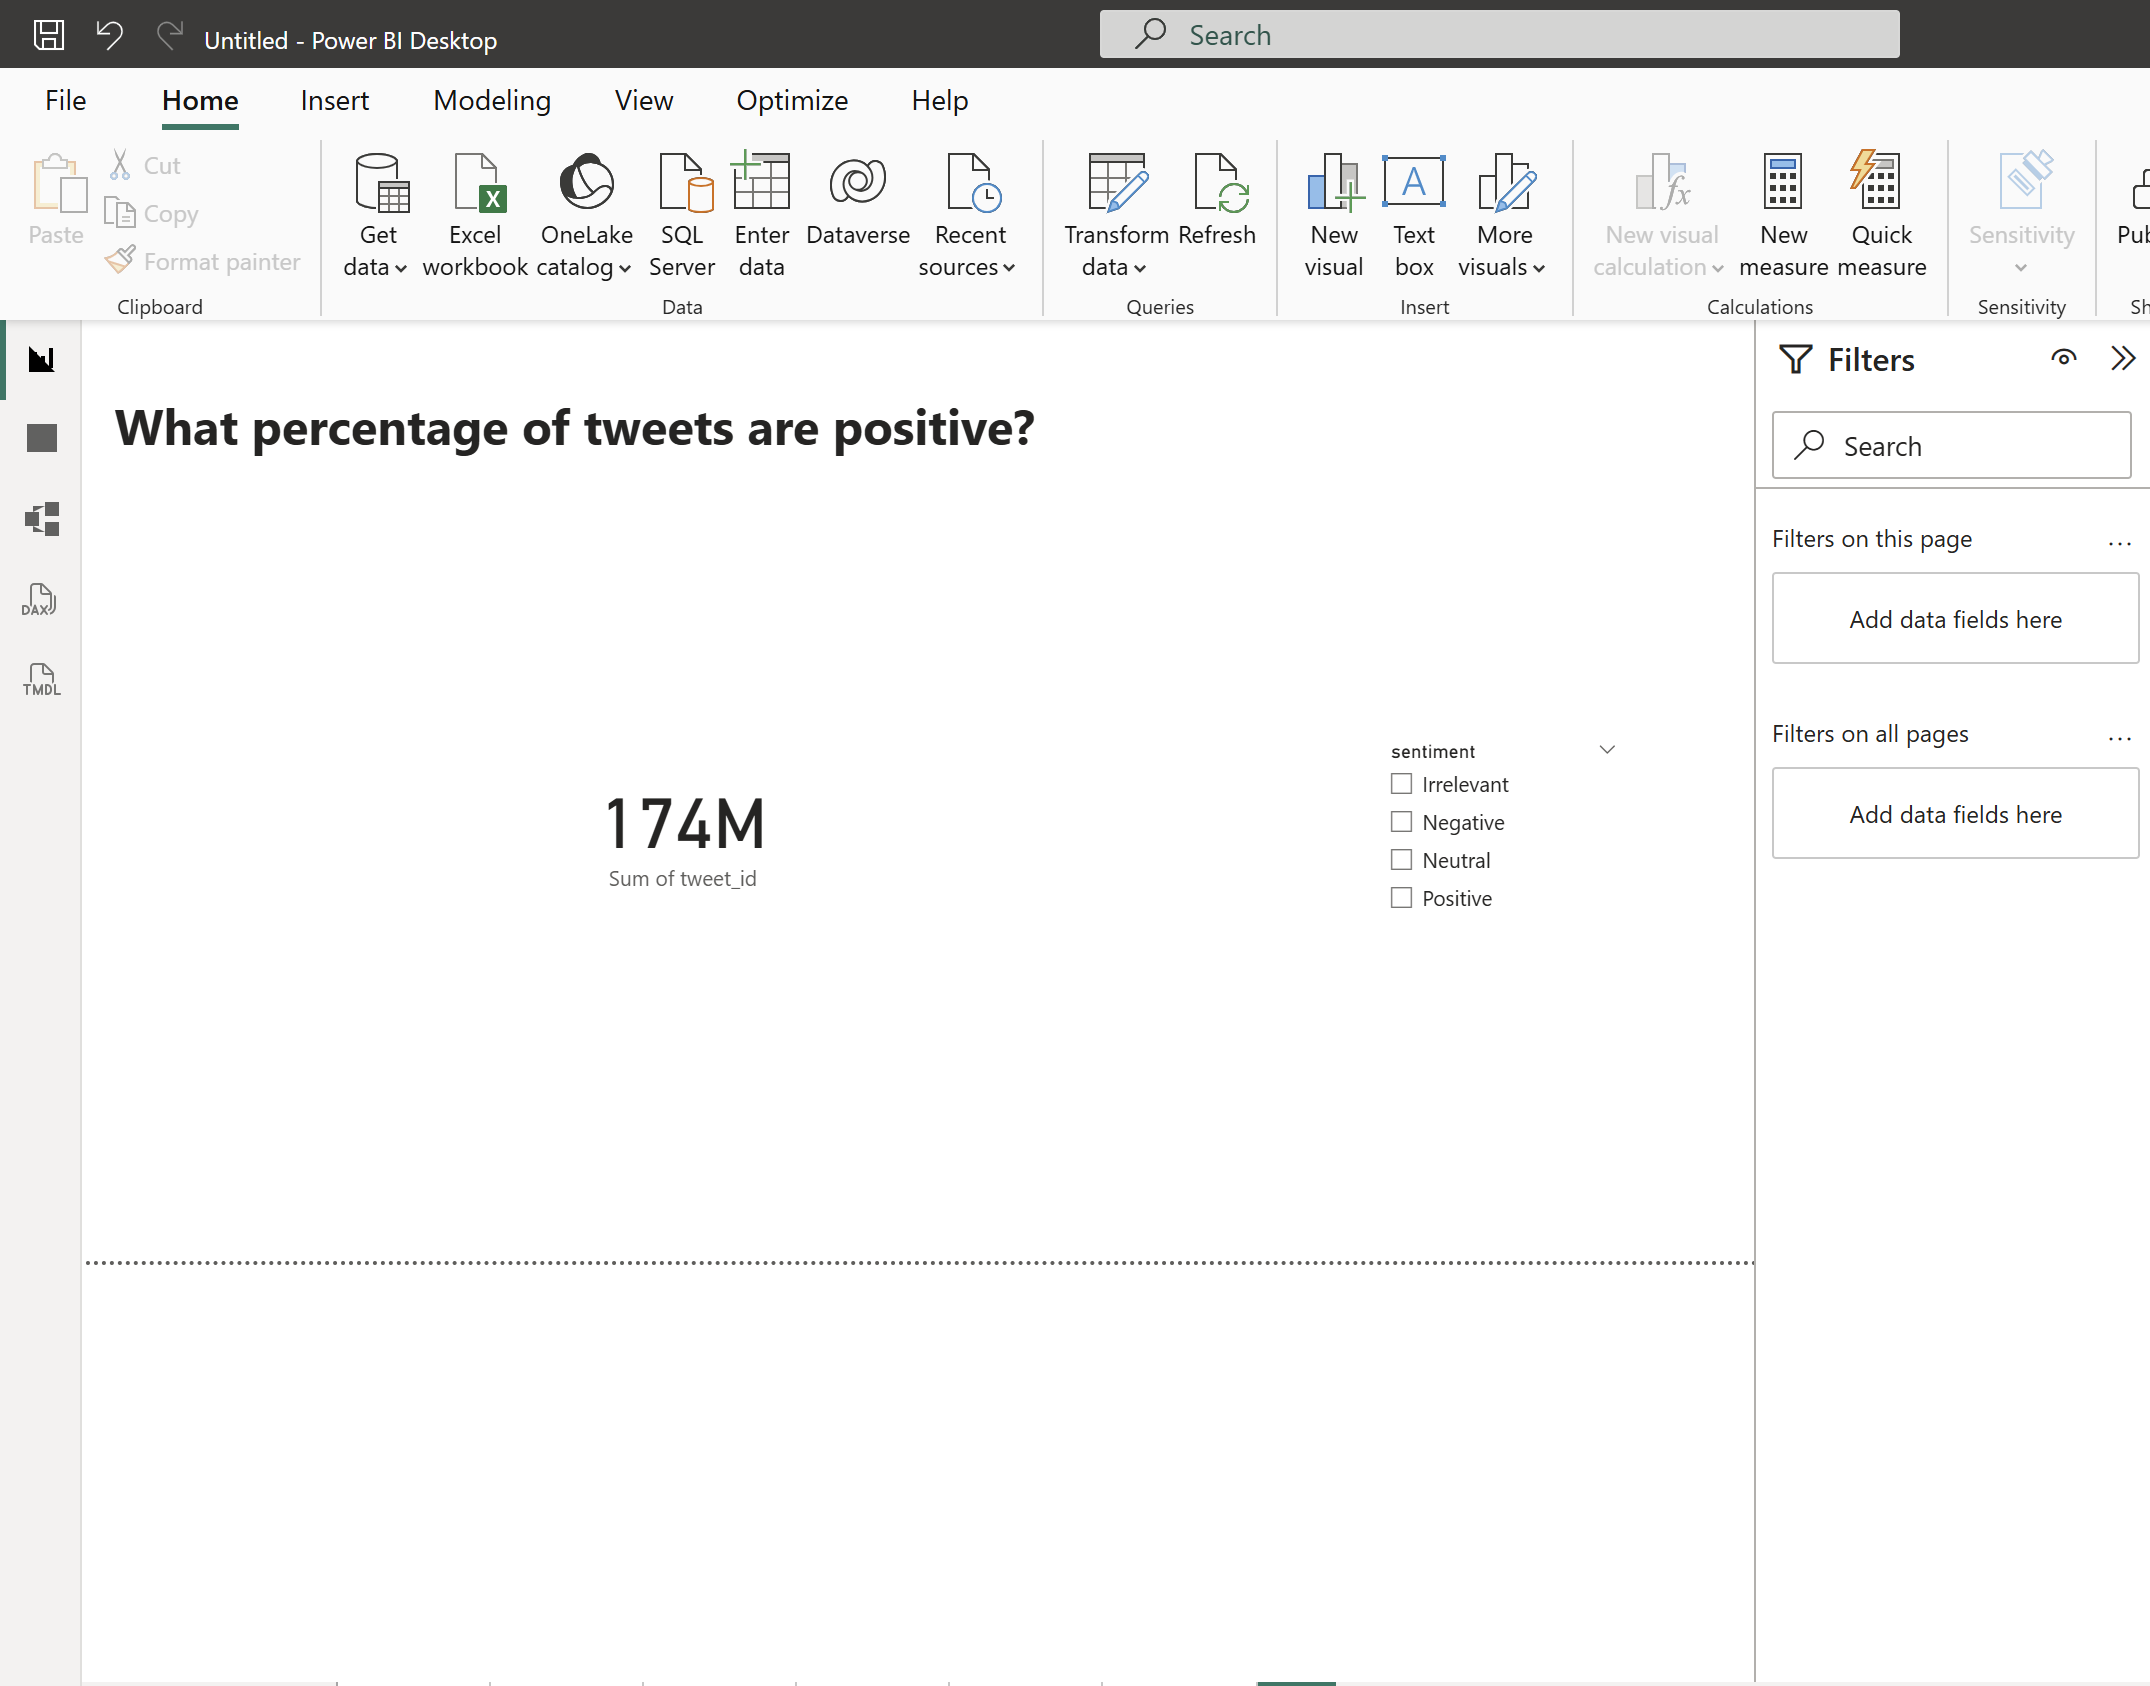

The dashboard page shown, as its layout file describes it:
{"tool":"powerbi","page":{"name":"Page 7","canvas":[1280,720],"ordinal":5},"visuals":[{"type":"textbox","box":[19.9,50.5,880.4,280.2],"z":0},{"type":"slicer","fields":{"Values":["twitter_sentiment tweets.sentiment"]},"box":[989.1,316.9,197.5,173],"z":1},{"type":"card","fields":{"Values":["Sum(twitter_sentiment tweets.tweet_id)"]},"box":[19.9,231.2,880.4,315.4],"z":2}]}

Visuals, with their boxes on the page's 1280x720 design canvas (x1, y1, x2, y2). These are canvas units, not pixel positions in the 2150x1686 screenshot, which may show the page scaled, cropped or inside an application window:
textbox: <bbox>20, 50, 900, 331</bbox>
slicer - twitter_sentiment tweets.sentiment: <bbox>989, 317, 1187, 490</bbox>
card - Sum(twitter_sentiment tweets.tweet_id): <bbox>20, 231, 900, 547</bbox>
